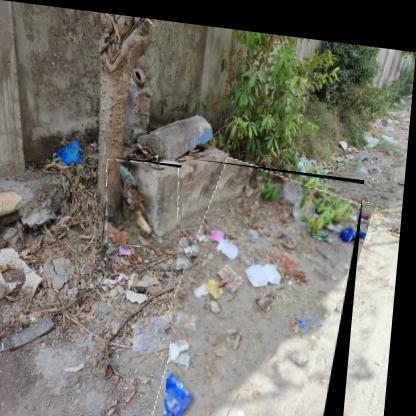Garbage: (169, 153, 369, 416), (107, 154, 186, 247)
